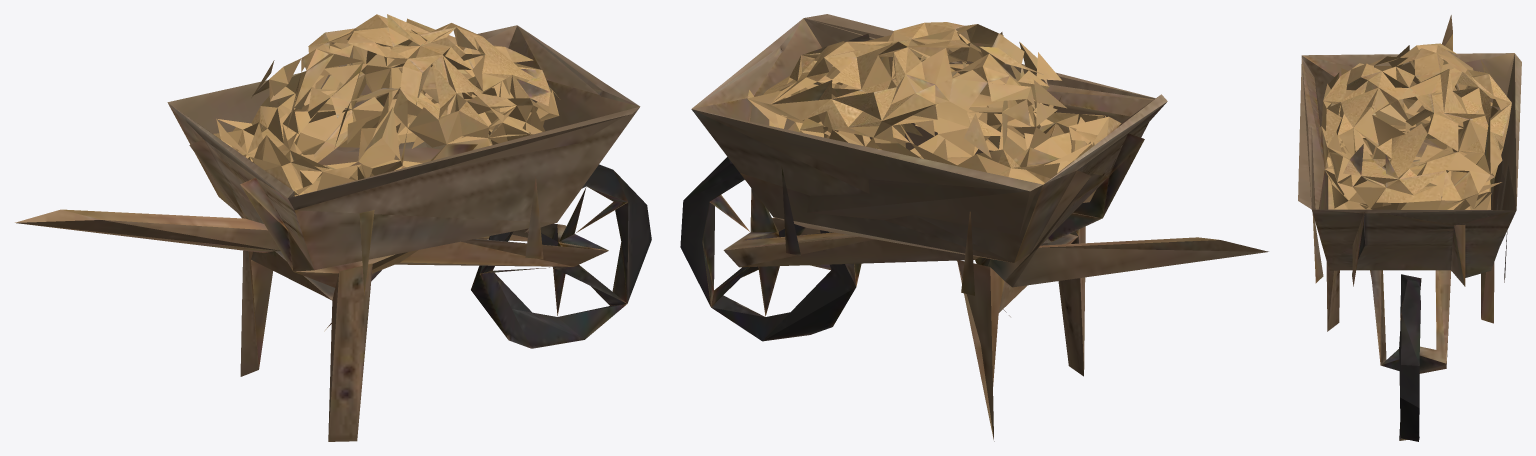
File: wheelbarrow.glb
3 renders of one model, left to right at view 1: azimuth 30°, elevation 25°; view 2: azimuth 150°, elevation 25°; view 3: azimuth 270°, elevation 25°, orthographic. The views are drawn at different scales.
Size of the model in its own units: 1.86 by 1.03 by 0.6806.
Materials: 1 (1 with a texture image).
